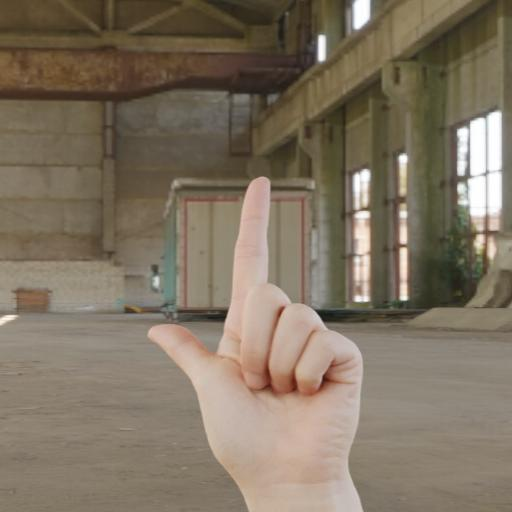L: (158, 170, 382, 512)
